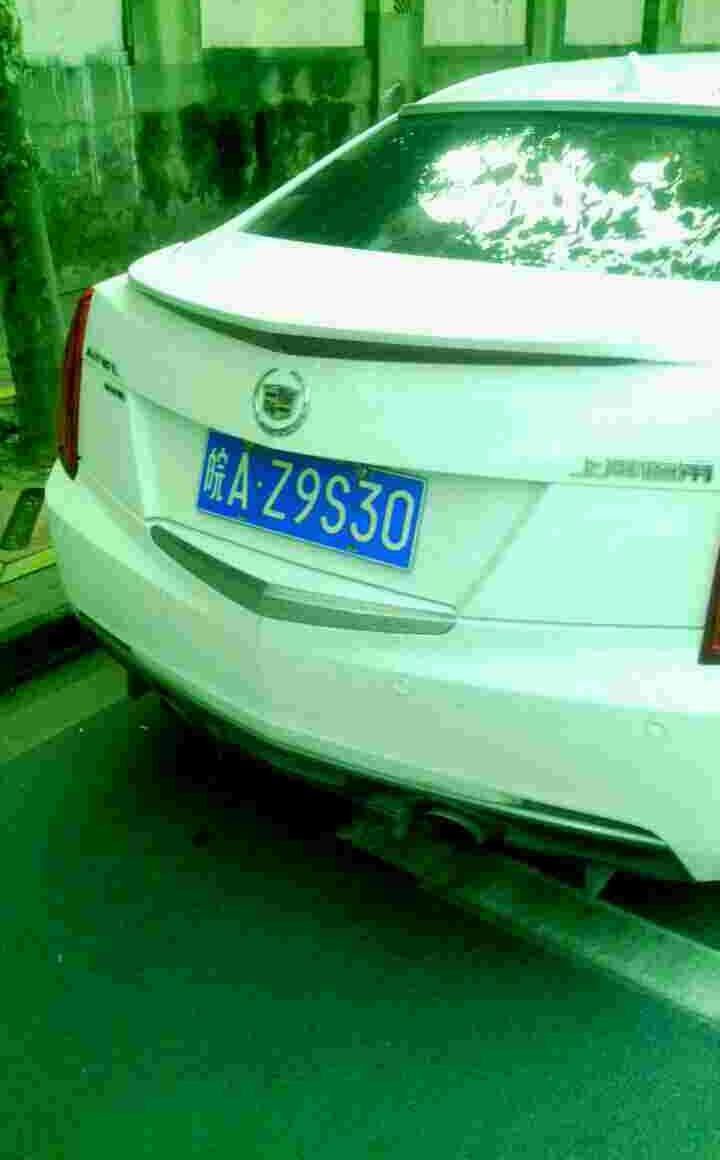license_plate: (190, 433, 433, 573)
